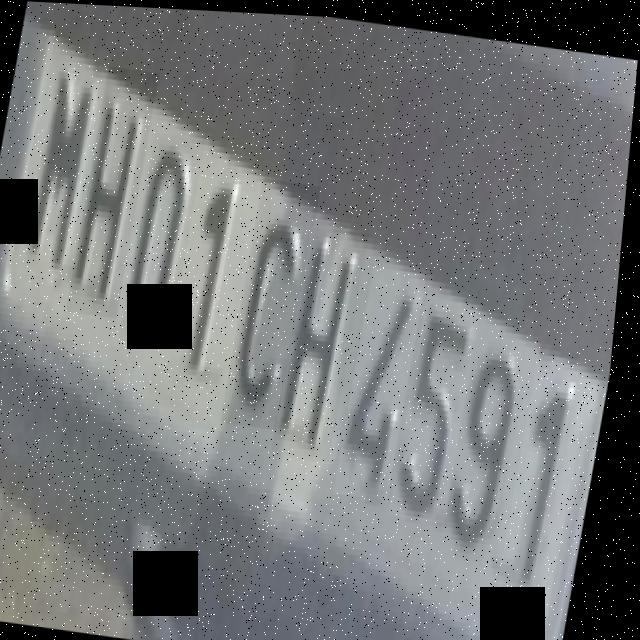0: (124, 130, 209, 347)
1: (502, 348, 599, 619), (173, 147, 254, 383)
4: (341, 261, 431, 496)
5: (397, 290, 488, 518)
9: (450, 329, 537, 559)
C: (227, 174, 324, 428)
H: (278, 222, 374, 459), (71, 64, 160, 318)
M: (16, 43, 108, 279)
